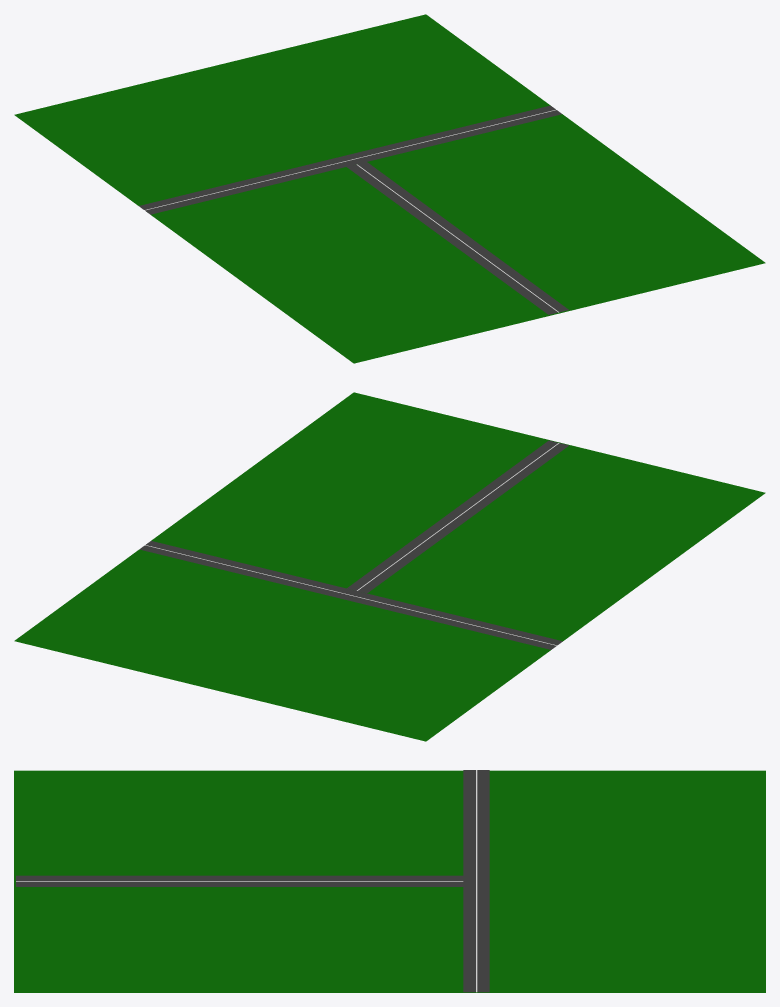
Rendered from t-intersect.fbx.
3 views of the same model, one above another, from view 1: azimuth 30°, elevation 25°; view 2: azimuth 150°, elevation 25°; view 3: azimuth 270°, elevation 25° (orthographic). The views are drawn at different scales.
Visible parts, largest first — view 1: Plane.001, Road.002, Road.001; view 2: Plane.001, Road.002, Road.001; view 3: Plane.001, Road.002, Road.001.
Boxes of the visible parts, x1,y1,x2,y2 form: Plane.001: [14, 14, 765, 363]; Road.002: [139, 105, 562, 214]; Road.001: [347, 162, 568, 314]; Plane.001: [14, 392, 765, 741]; Road.002: [139, 541, 562, 649]; Road.001: [347, 440, 568, 593]; Plane.001: [14, 770, 765, 992]; Road.002: [463, 770, 489, 992]; Road.001: [16, 875, 463, 886].
Size of the model in its own units: 140 by 0.1 by 200.
